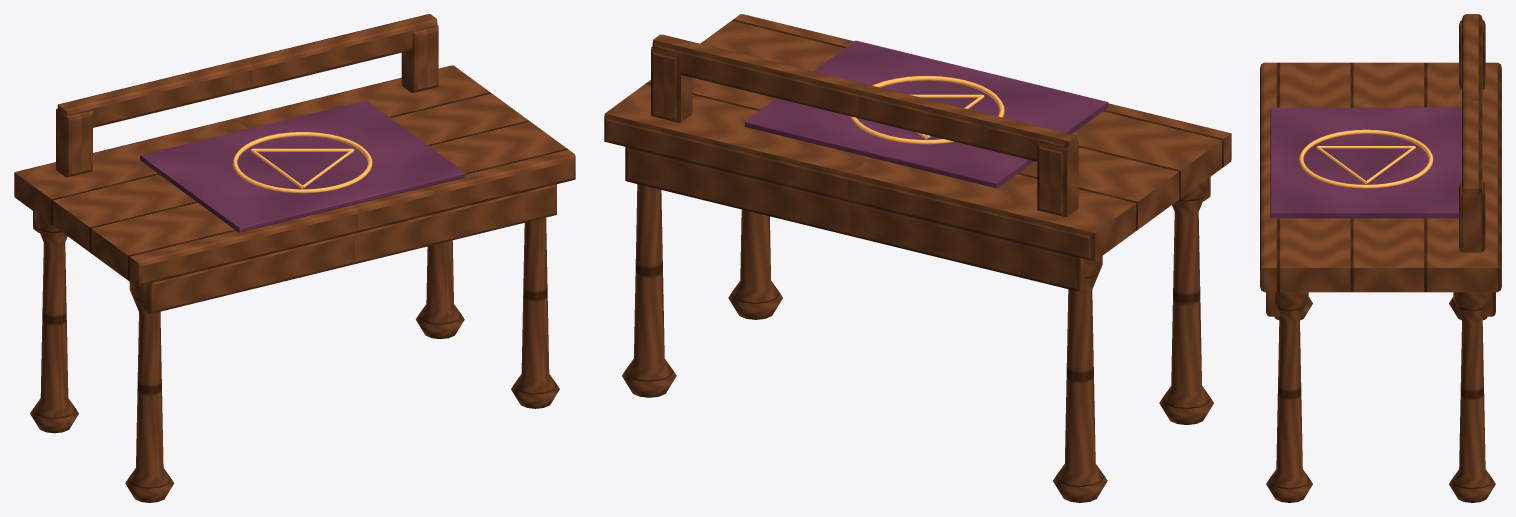
The model's file is hollowwick-halloween-ritual-worktable-962c52f5__21615.glb.
The picture shows the model from 3 angles, left to right: view 1: azimuth 30°, elevation 25°; view 2: azimuth 150°, elevation 25°; view 3: azimuth 270°, elevation 25°; orthographic projection. The views are drawn at different scales.
Visible parts, largest first — view 1: ritual-worktable; view 2: ritual-worktable; view 3: ritual-worktable.
Part boxes in pixels (<box>): ritual-worktable: <box>14,14,575,502</box>; ritual-worktable: <box>604,14,1231,502</box>; ritual-worktable: <box>1260,14,1501,502</box>.
Size of the model in its own units: 1.65 by 1.14 by 0.82.
Materials: 3 (2 with a texture image).
